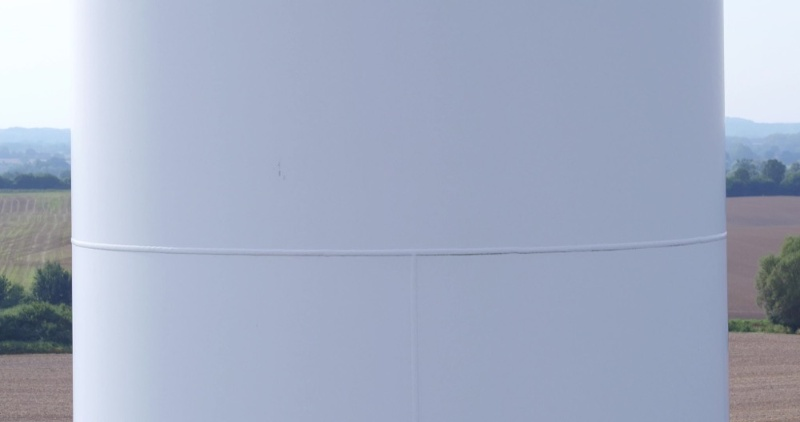weldseam: (64, 231, 732, 262), (406, 241, 428, 422)
